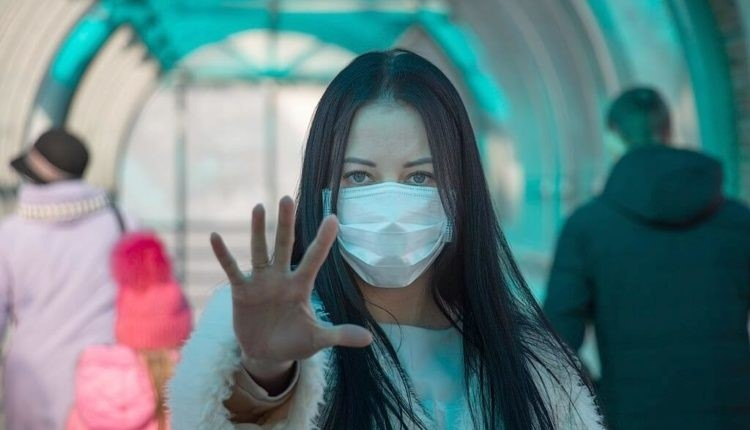face_with_mask: (310, 87, 472, 302)
